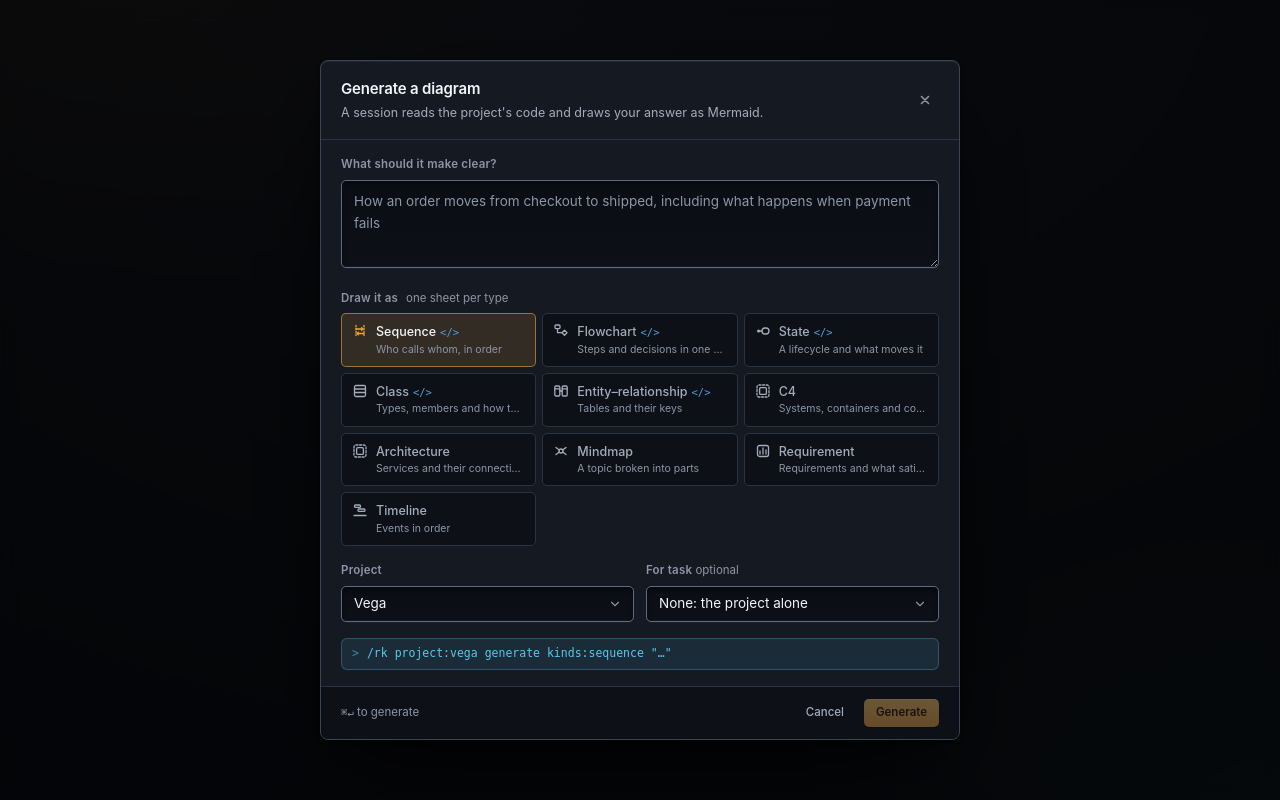
Test: the generate dialog › refuses to generate without a type
The width and height of the screenshot is (1280, 800).
Replace the text in the text box with test id "generate-request" with "anything" at (640, 224), box 341,180 -> 939,268
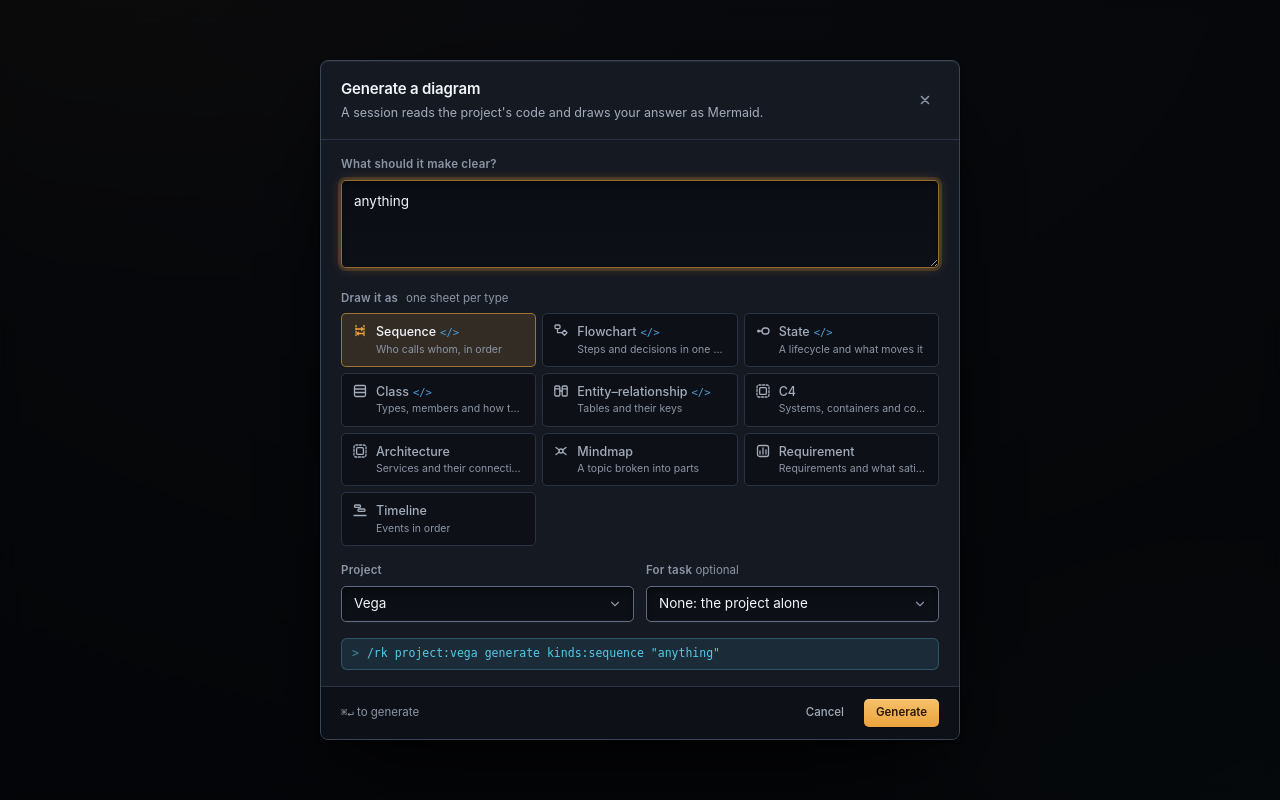
Click the button with test id "kind-sequence" at (439, 340), box 341,313 -> 536,367
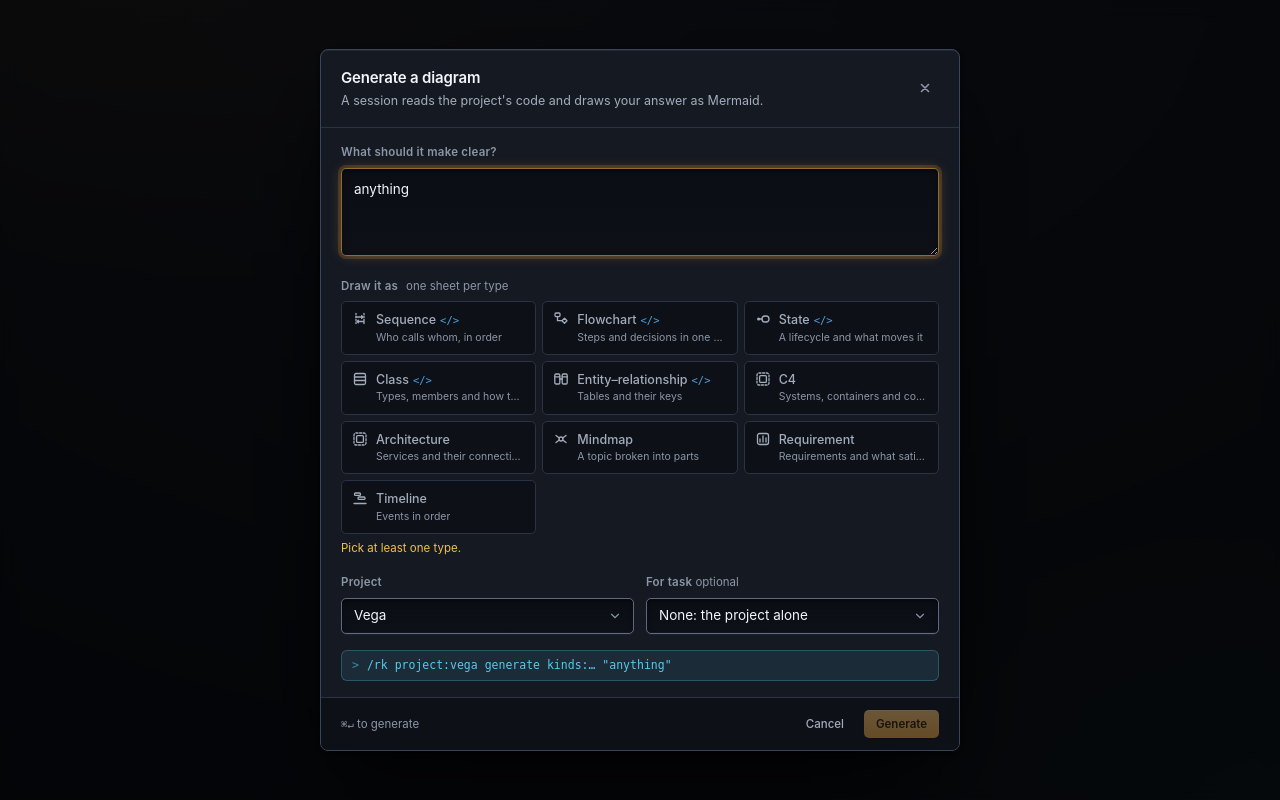
Check: the text "Pick at least one type." is shown, box 341,541 -> 461,555
Check: the button with test id "generate-submit" is disabled, box 864,710 -> 939,738
